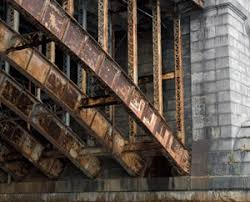rust: (1, 1, 191, 173)
